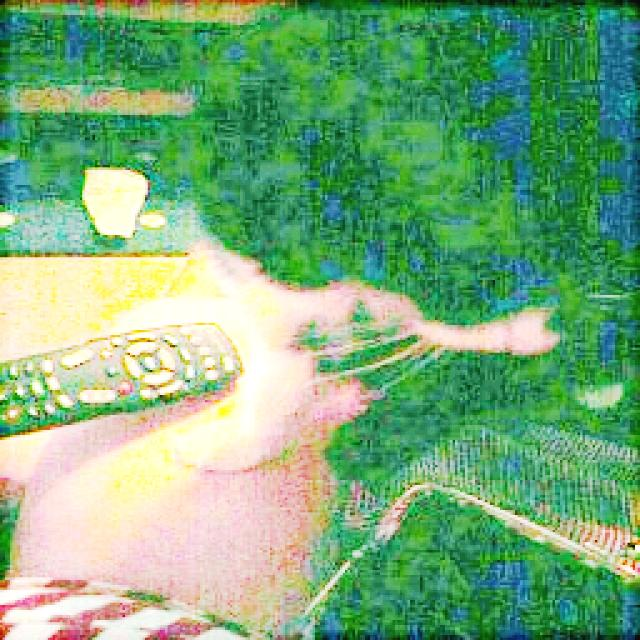cat: (145, 0, 640, 515)
